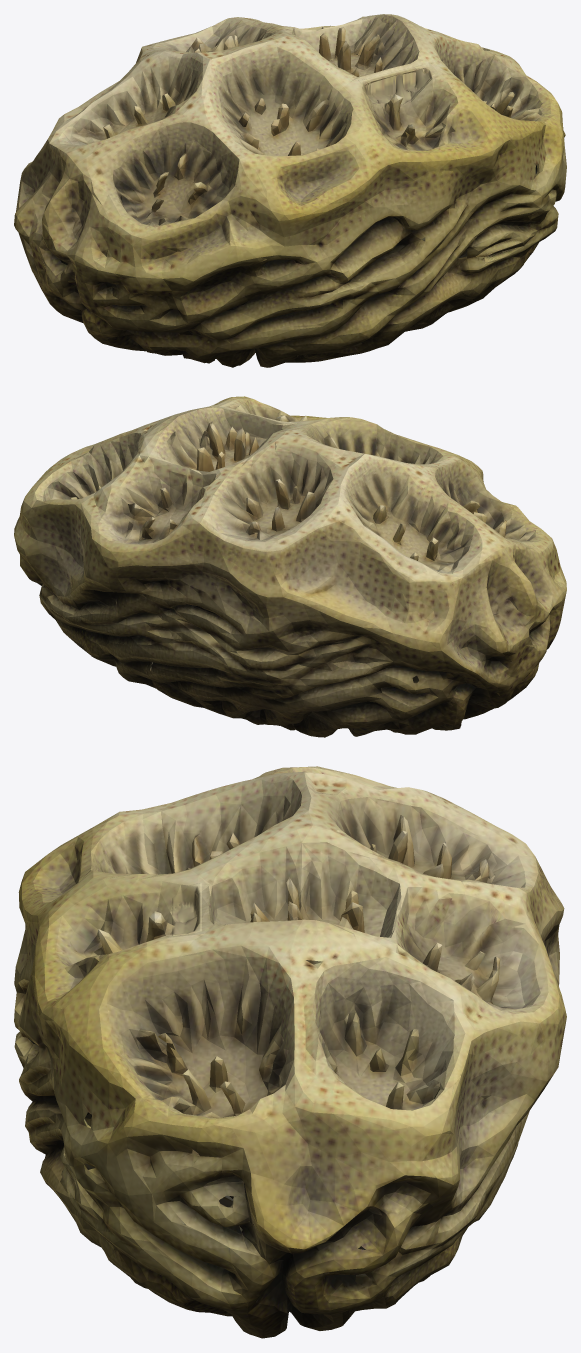
The picture shows the model from 3 angles, top to bottom: view 1: azimuth 30°, elevation 25°; view 2: azimuth 150°, elevation 25°; view 3: azimuth 270°, elevation 25°; orthographic projection. The views are drawn at different scales.
Parts seen in each view (by area): view 1: world, Pleurodictyum reversible shared upper wall skin; view 2: world; view 3: world, Pleurodictyum reversible shared upper wall skin.
Part boxes in pixels (x1=…): world: x1=14, y1=14, x2=566, y2=367; Pleurodictyum reversible shared upper wall skin: x1=358, y1=64, x2=434, y2=107; world: x1=14, y1=396, x2=566, y2=737; world: x1=14, y1=766, x2=566, y2=1338; Pleurodictyum reversible shared upper wall skin: x1=172, y1=883, x2=201, y2=935.
Bounding box in the file's own units: 0.06 × 0.0333 × 0.0385.
2 materials, 2 textured.
